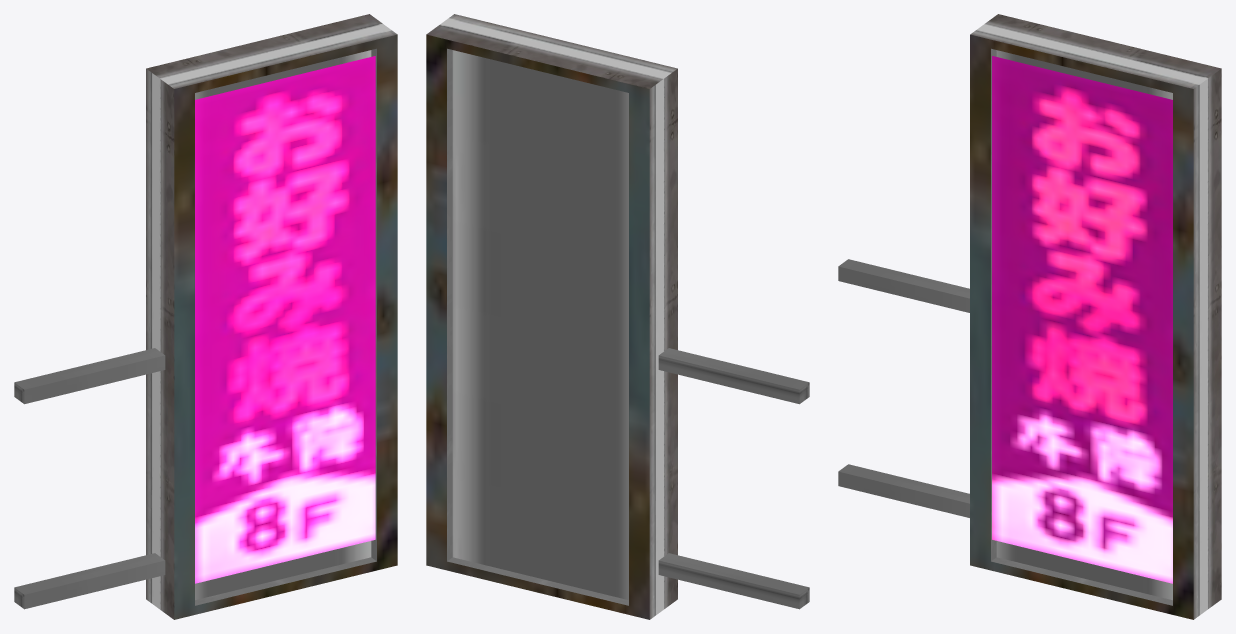
The model's file is pm-japanese-sign-07.glb.
The picture shows the model from 3 angles, left to right: view 1: azimuth 30°, elevation 25°; view 2: azimuth 150°, elevation 25°; view 3: azimuth 330°, elevation 25°; orthographic projection.
Visible parts, largest first — view 1: Japanese_Sign_07; view 2: Japanese_Sign_07; view 3: Japanese_Sign_07.
Part boxes in pixels (x1,y1,x2,y2): Japanese_Sign_07: [14, 14, 397, 619]; Japanese_Sign_07: [426, 14, 809, 619]; Japanese_Sign_07: [838, 14, 1221, 619].
Bounding box in the file's own units: 0.947 × 1.32 × 0.1264.
2 materials, 1 textured.
